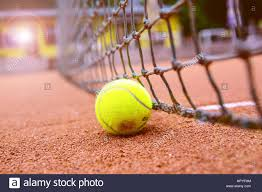tennis_ball: (95, 78, 154, 137)
